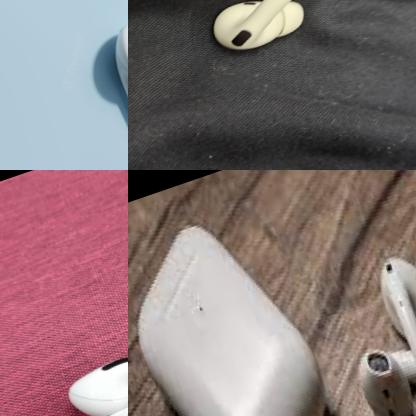Airpods: (189, 0, 347, 75), (50, 315, 128, 416), (372, 248, 416, 416), (352, 317, 416, 416), (99, 4, 128, 168)
